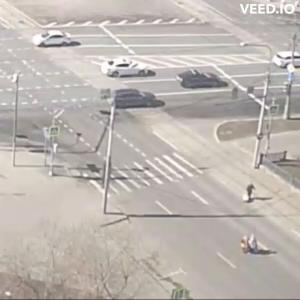car: (101, 54, 160, 80), (177, 69, 240, 91), (114, 90, 167, 112), (35, 33, 83, 49), (274, 53, 300, 71)
